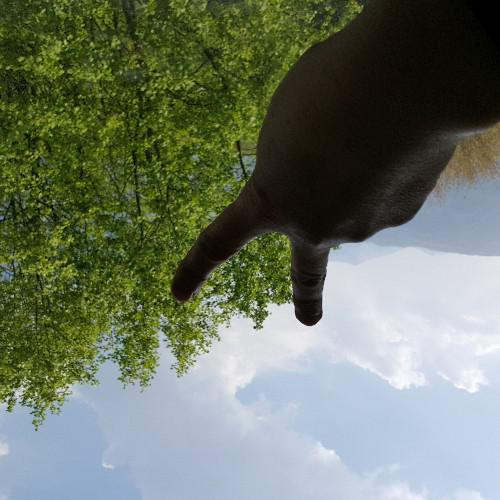scissors: (161, 29, 454, 331)
